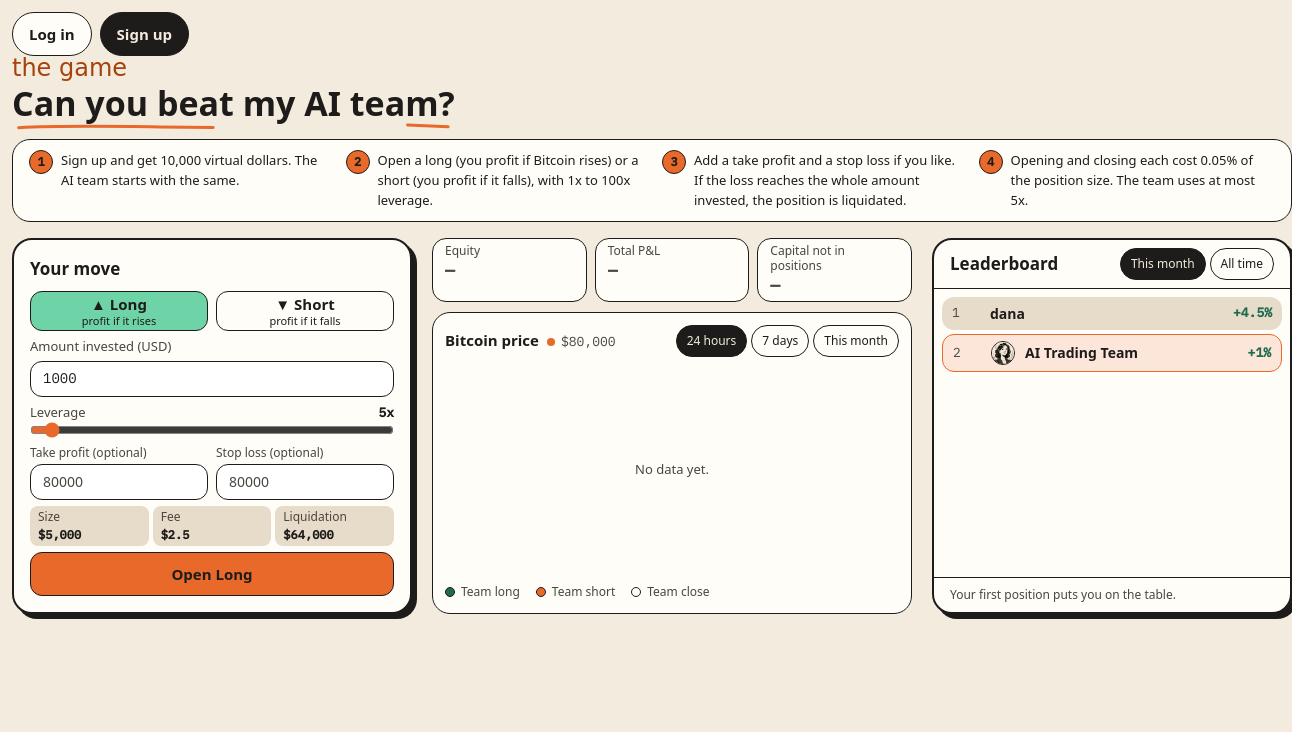
sign-up asks for an email and an optional phone, and a taken name says so
Click the button "▲ Long profit if it rises" at (119, 311), box 30,291 -> 208,331
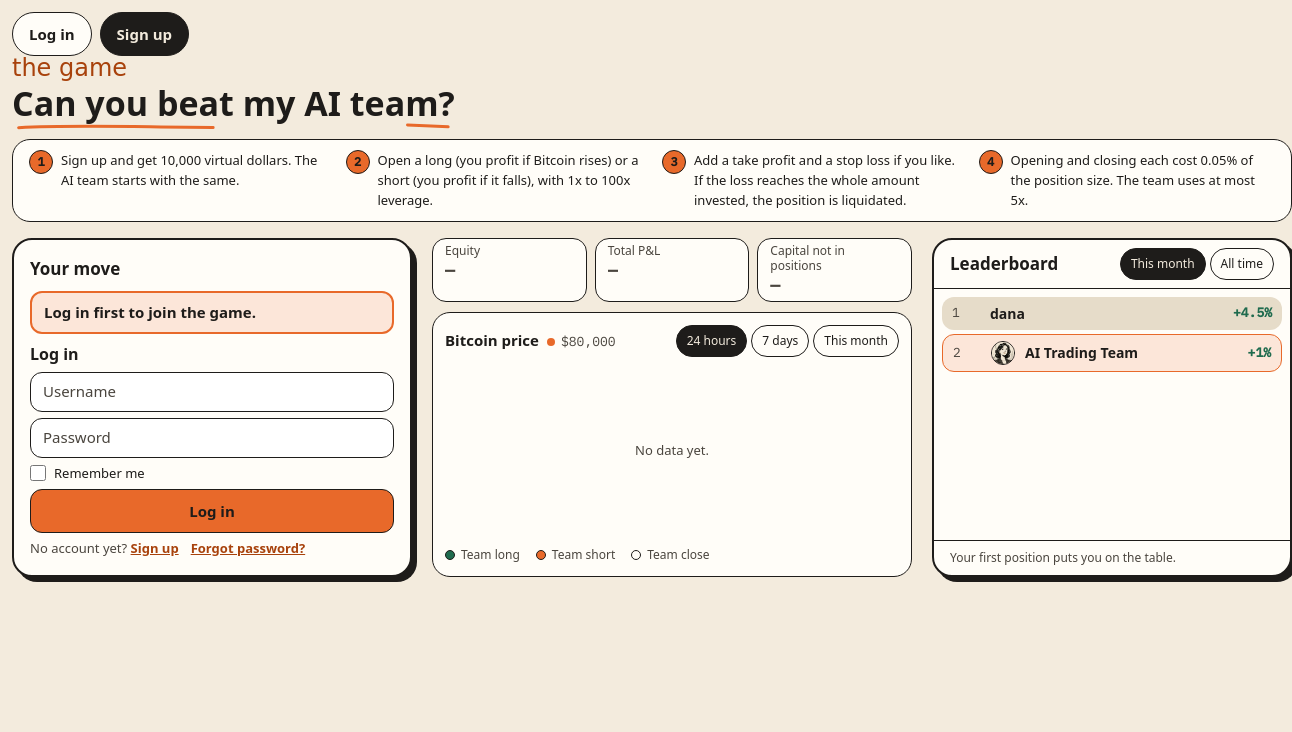
Expected: the field labelled "Email" is not shown
Click the button "Sign up" next to "No account yet?" at (155, 549), box 131,539 -> 179,558
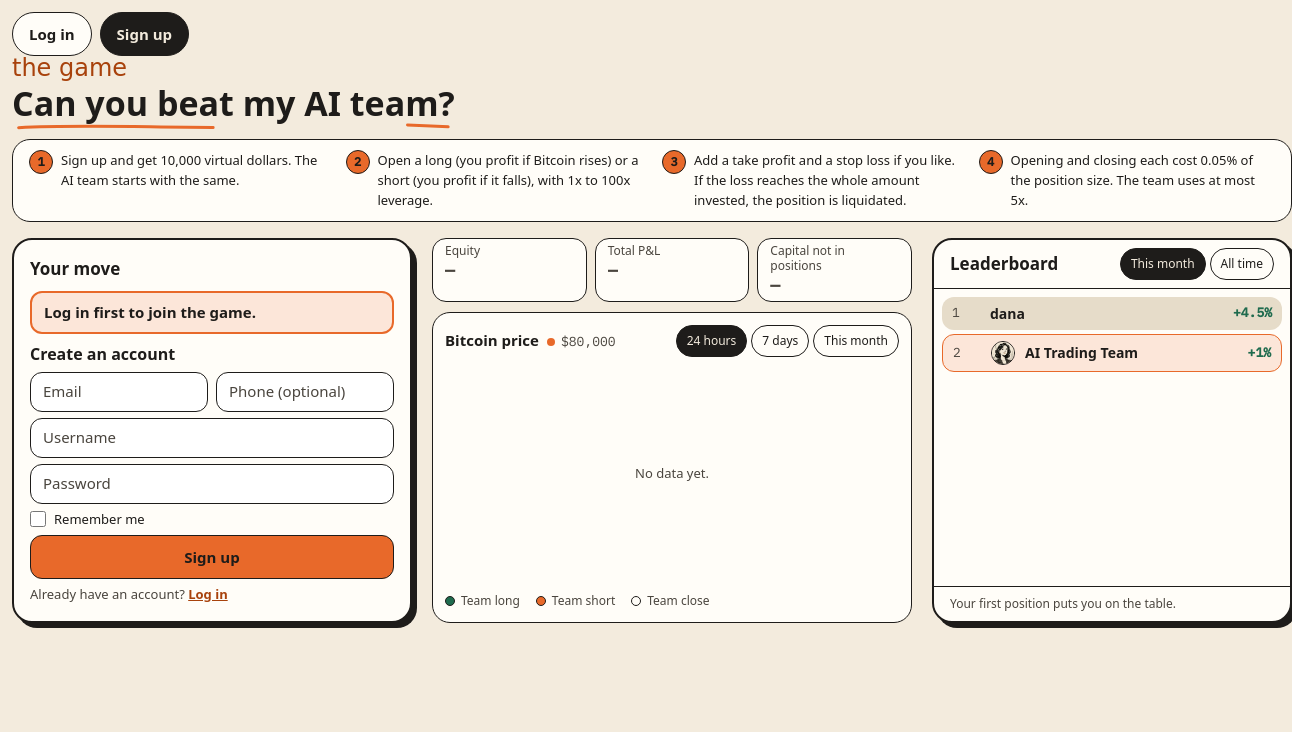
Type "satoshi" into the field labelled "Username" at (212, 438), box 30,418 -> 394,458
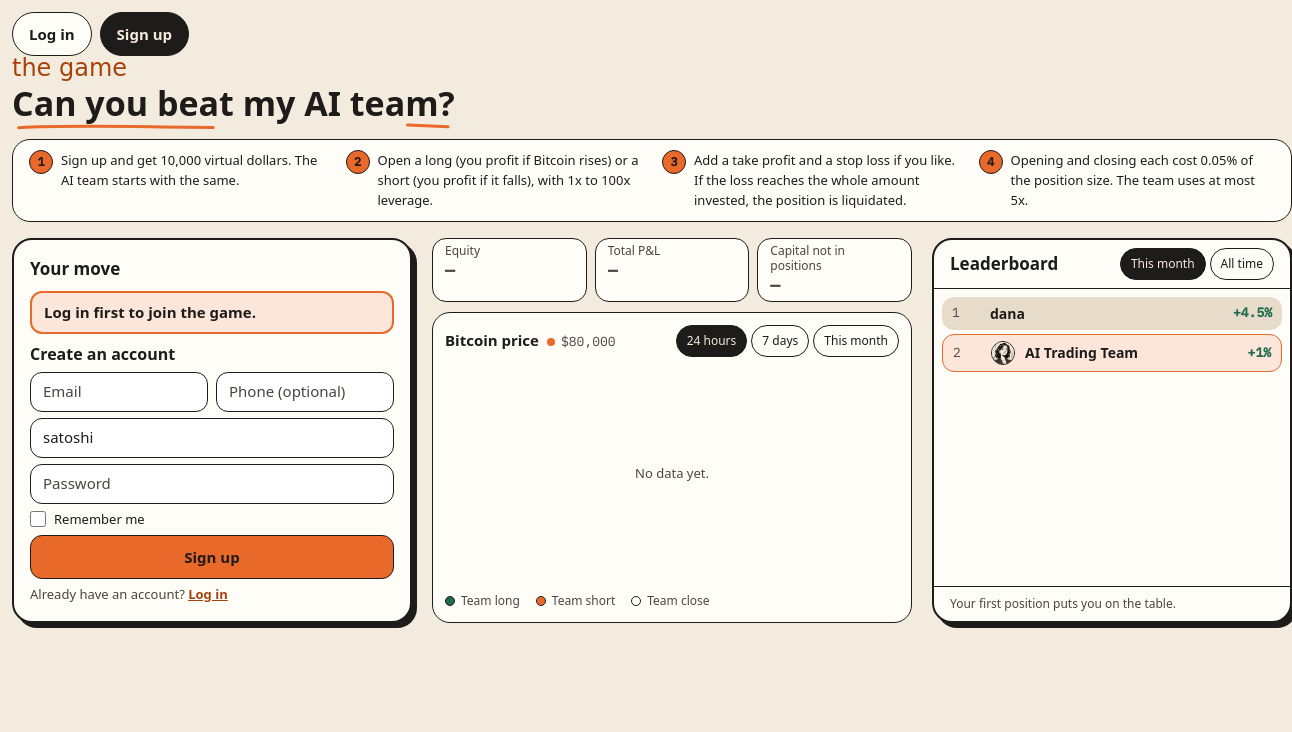
Type "pw" into the password field labelled "Password" at (212, 484), box 30,464 -> 394,504
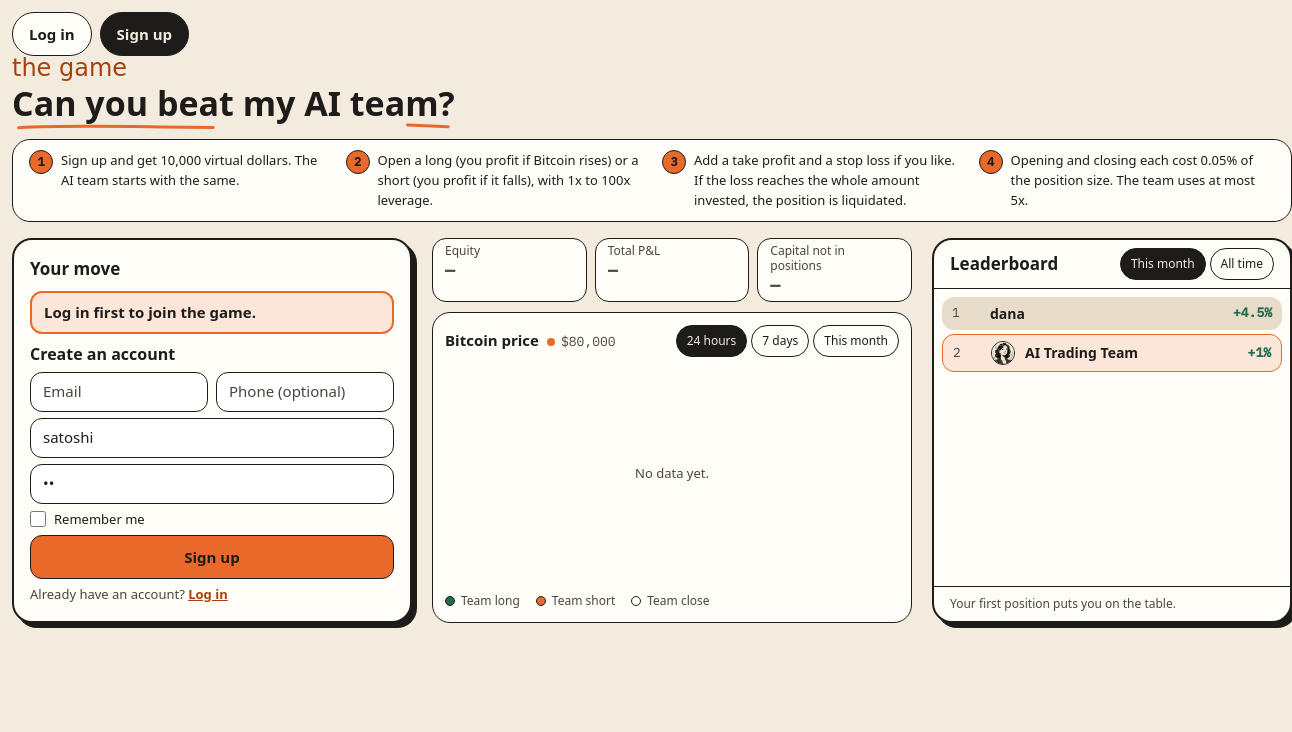
Submit the form named "Password", box 30,342 -> 394,604
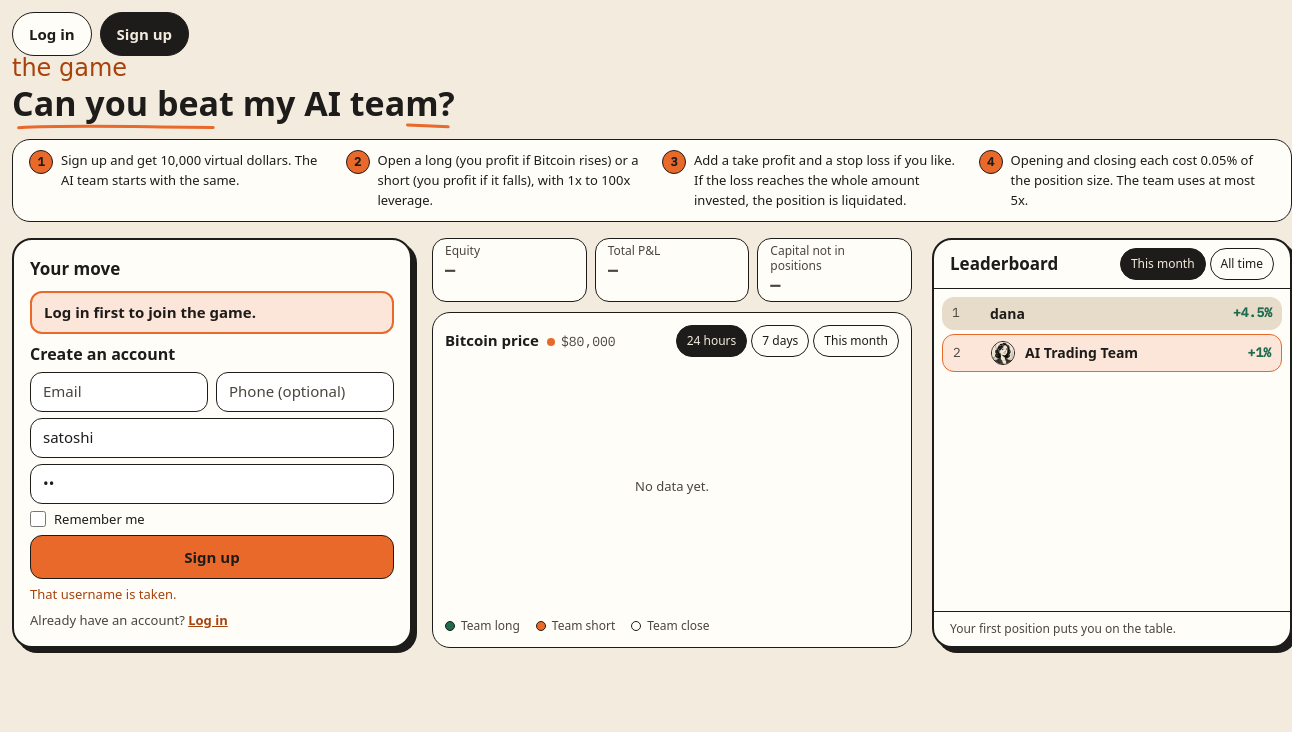
Expected: the text "That username is taken." is shown, 30,585 -> 176,603
